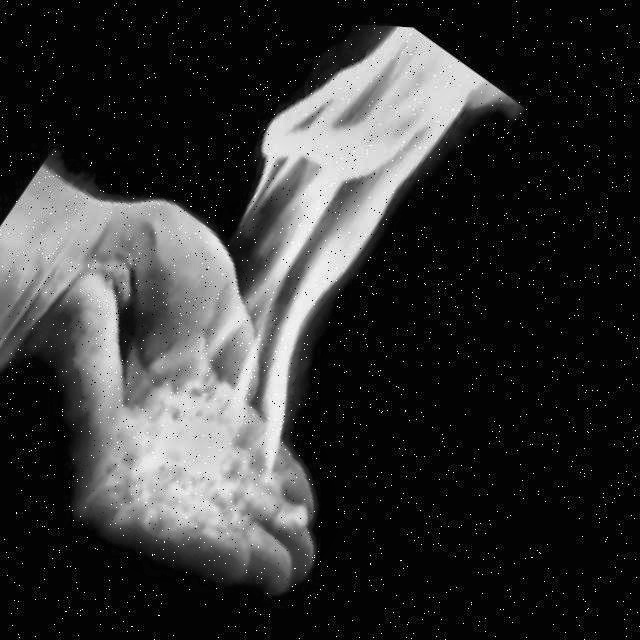Fire: (75, 4, 527, 515)
